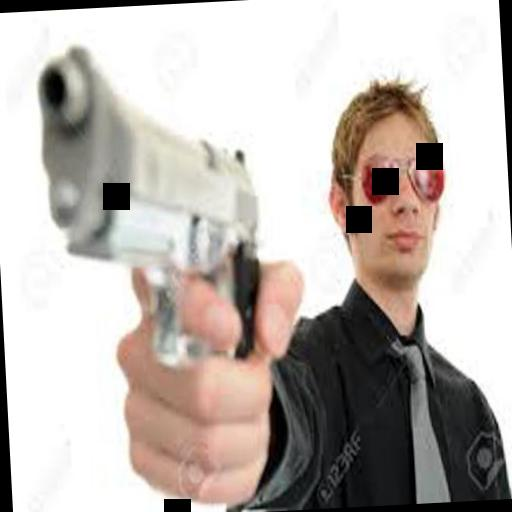Handgun: (38, 20, 261, 374)
